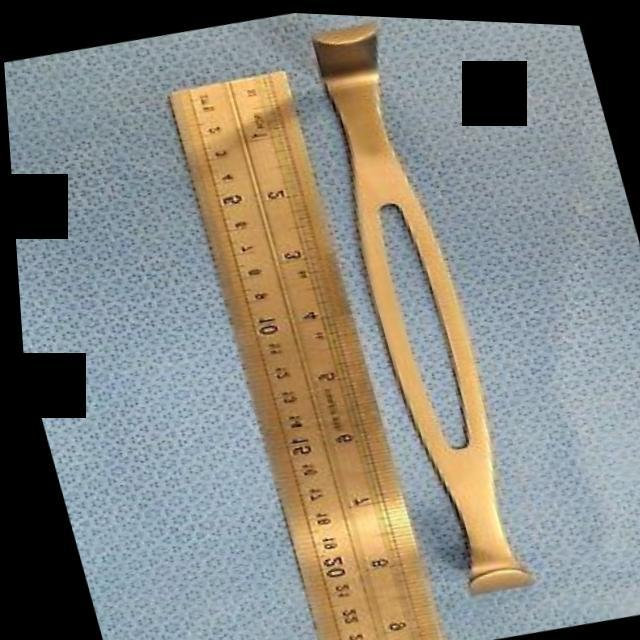Army Navy Retractor: (283, 10, 544, 606)
